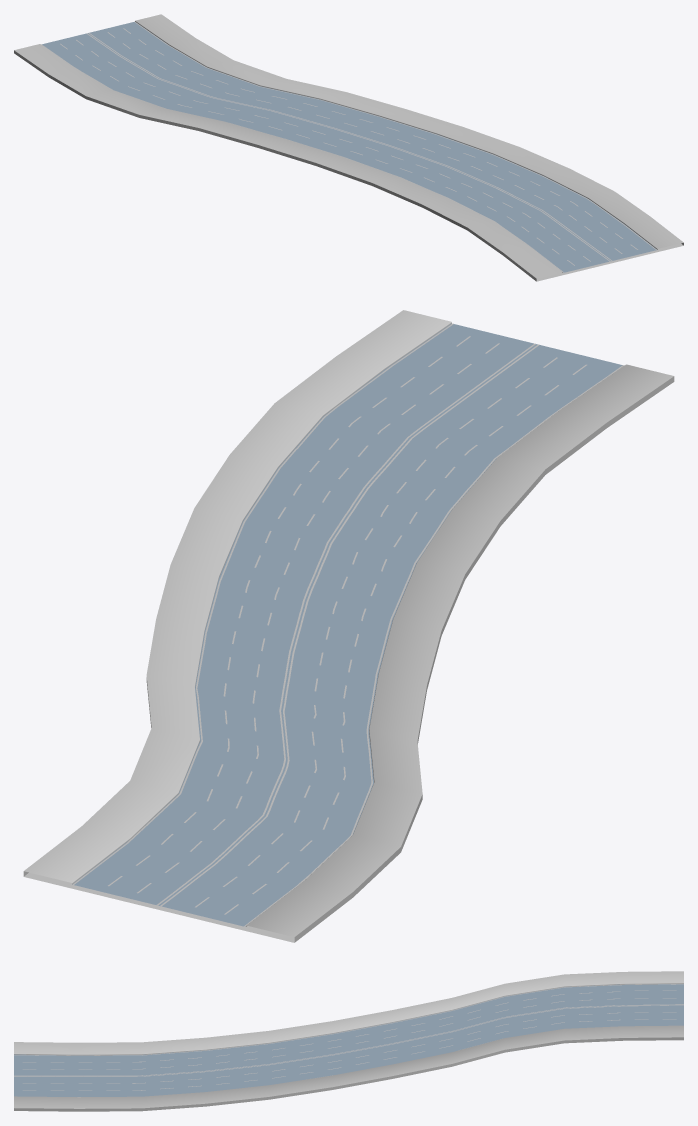
The model's file is Road_004.fbx.
The picture shows the model from 3 angles, top to bottom: view 1: azimuth 30°, elevation 25°; view 2: azimuth 150°, elevation 25°; view 3: azimuth 270°, elevation 25°; orthographic projection. The views are drawn at different scales.
Visible parts, largest first — view 1: Road_004; view 2: Road_004; view 3: Road_004.
Boxes of the visible parts, left/top/right/bottom form: Road_004: left=14, top=14, right=683, bottom=281; Road_004: left=23, top=310, right=674, bottom=942; Road_004: left=14, top=971, right=683, bottom=1111.
Bounding box in the file's own units: 5832 × 56.17 × 12001.
